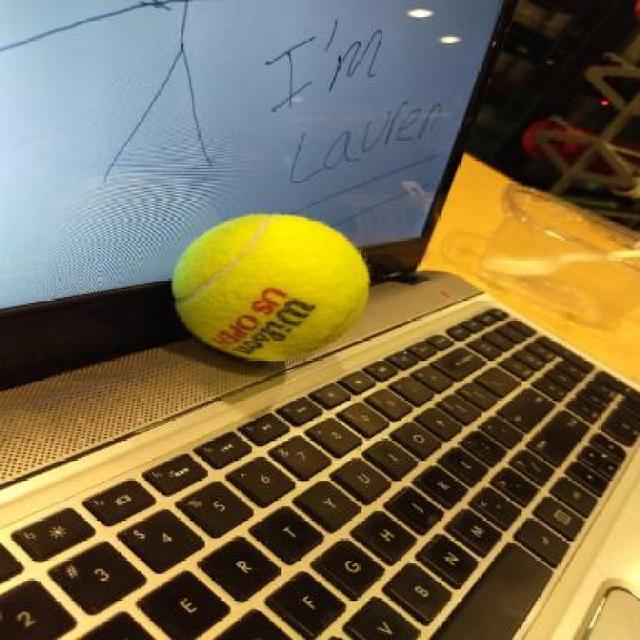Tennis_Ball: (174, 217, 368, 360)
